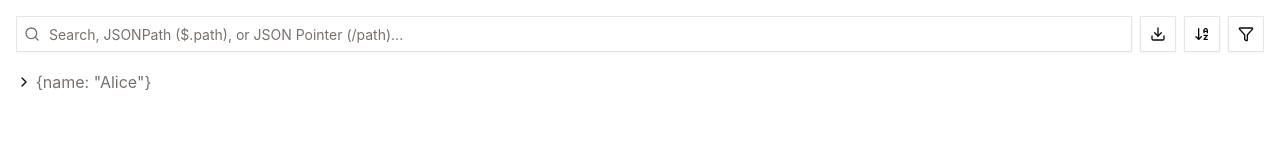
Test case: JsonViewer bookmarkedPaths forwarding › renders the star indicator only when bookmarkedPaths is provided
Click the button named "Expand object".
click(24, 82)  # box 16,74 -> 32,90
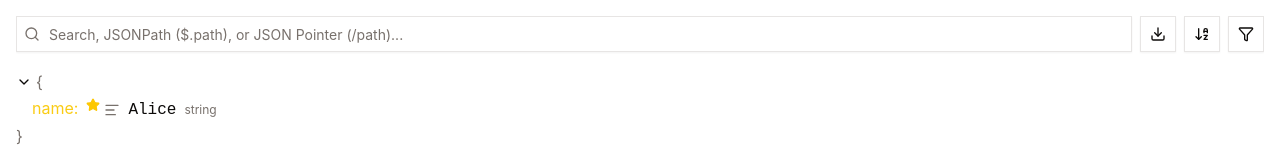
Now the icon with class "lucide-star" is shown, box 86,98 -> 100,112
